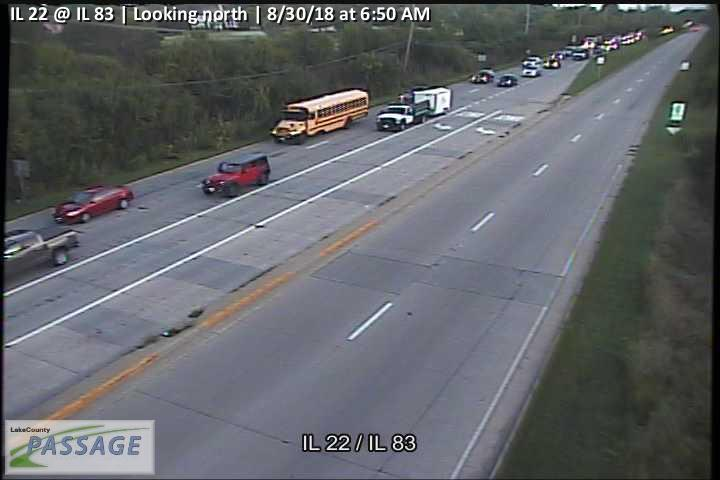Sedan: (200, 151, 271, 199), (52, 185, 134, 224), (472, 68, 494, 83), (496, 74, 517, 88)
Truck: (271, 90, 370, 145), (374, 86, 452, 131)
